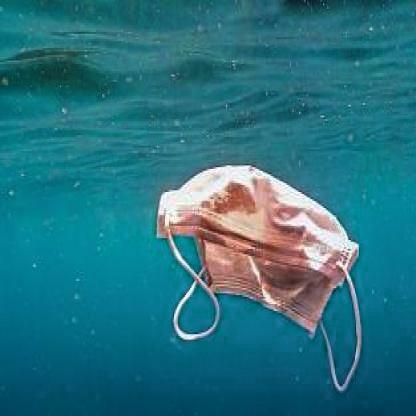Mask: (150, 167, 363, 404)
